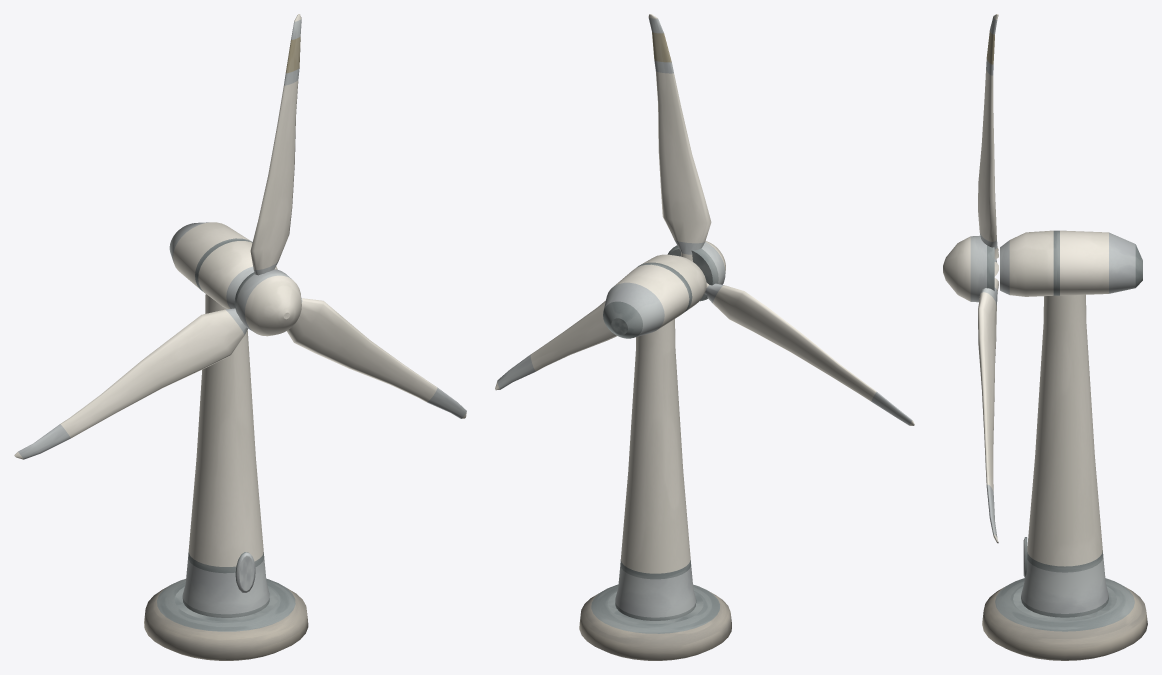
File: turbine-v001.glb
The picture shows the model from 3 angles, left to right: view 1: azimuth 30°, elevation 25°; view 2: azimuth 150°, elevation 25°; view 3: azimuth 270°, elevation 25°; orthographic projection. The views are drawn at different scales.
Parts seen in each view (by area): view 1: Tower, Foundation, Blade_03, Blade_02, Blade_01, Nacelle, Hub, Service hatch; view 2: Tower, Foundation, Blade_01, Nacelle, Blade_03, Blade_02, Hub; view 3: Tower, Nacelle, Foundation, Blade_02, Blade_01, Hub.
Part boxes in pixels (x1=…): Tower: x1=182, y1=294, x2=269, y2=617; Foundation: x1=144, y1=578, x2=308, y2=660; Blade_03: x1=14, y1=308, x2=247, y2=459; Blade_02: x1=287, y1=298, x2=466, y2=418; Blade_01: x1=250, y1=14, x2=301, y2=275; Nacelle: x1=169, y1=222, x2=277, y2=309; Hub: x1=234, y1=269, x2=301, y2=336; Service hatch: x1=235, y1=552, x2=255, y2=592; Tower: x1=615, y1=319, x2=696, y2=620; Foundation: x1=579, y1=584, x2=731, y2=660; Blade_01: x1=648, y1=14, x2=711, y2=261; Nacelle: x1=603, y1=254, x2=706, y2=338; Blade_03: x1=704, y1=282, x2=914, y2=425; Blade_02: x1=495, y1=300, x2=616, y2=390; Hub: x1=667, y1=241, x2=725, y2=301; Tower: x1=1021, y1=294, x2=1108, y2=617; Nacelle: x1=1000, y1=230, x2=1142, y2=296; Foundation: x1=982, y1=578, x2=1147, y2=660; Blade_02: x1=978, y1=278, x2=998, y2=543; Blade_01: x1=978, y1=14, x2=998, y2=258; Hub: x1=943, y1=235, x2=994, y2=302.
Bounding box in the file's own units: 3.23 × 4.31 × 1.26.
Materials: 5 (5 with a texture image).
